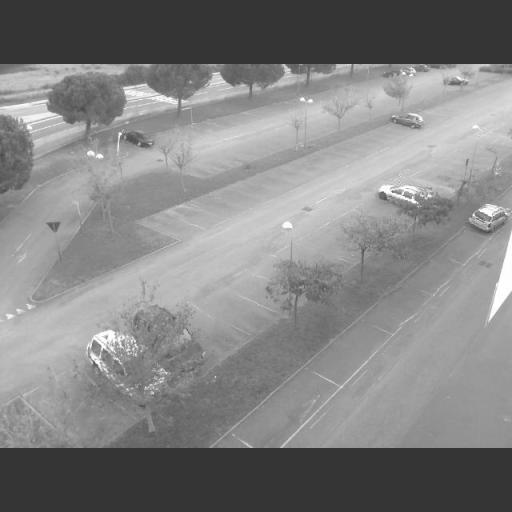busy: (124, 304, 214, 376), (82, 330, 169, 404), (374, 183, 436, 212), (462, 204, 509, 234), (120, 130, 155, 150), (388, 112, 426, 130), (440, 73, 468, 89), (398, 68, 416, 78)
free: (55, 382, 110, 440), (376, 286, 424, 328), (256, 398, 302, 430), (190, 316, 224, 358), (418, 258, 454, 290), (446, 233, 482, 263), (227, 302, 261, 330), (334, 336, 372, 360), (249, 254, 284, 280), (249, 280, 279, 306), (321, 232, 346, 260), (294, 250, 324, 272), (165, 220, 192, 239), (185, 207, 210, 227), (203, 196, 227, 214), (286, 160, 312, 176), (305, 157, 332, 171), (234, 180, 257, 196), (214, 190, 238, 204), (254, 174, 278, 188), (470, 156, 488, 169), (272, 170, 293, 180), (184, 126, 204, 136), (278, 99, 296, 109), (200, 121, 214, 132), (234, 112, 251, 120), (214, 118, 228, 127)
